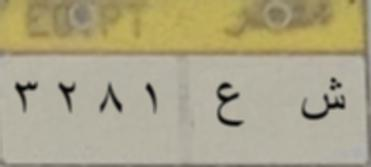1: (136, 74, 168, 127)
2: (57, 78, 82, 115)
3: (9, 74, 45, 120)
8: (92, 77, 126, 128)
ain: (214, 78, 246, 134)
sheen: (297, 72, 352, 129)
